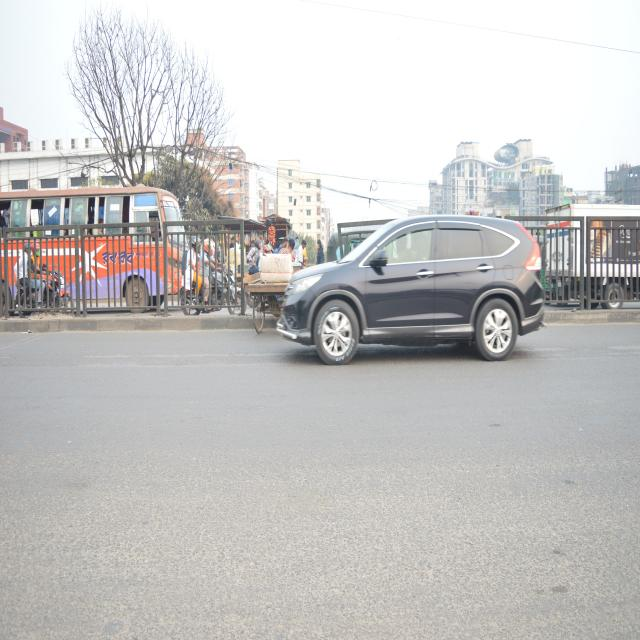bus: (0, 175, 185, 303)
car: (283, 206, 541, 370)
motorbike: (182, 252, 244, 332), (12, 268, 81, 323)
truck: (545, 192, 640, 307)
